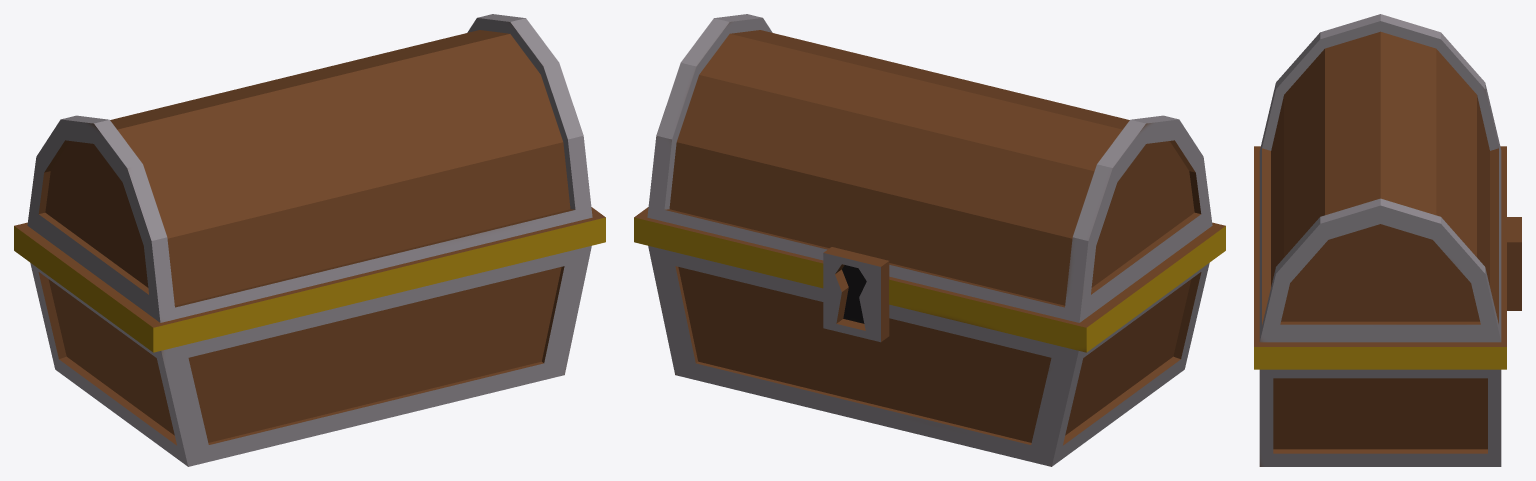
File: chest.glb
The picture shows the model from 3 angles, left to right: view 1: azimuth 30°, elevation 25°; view 2: azimuth 150°, elevation 25°; view 3: azimuth 270°, elevation 25°; orthographic projection. The views are drawn at different scales.
Parts seen in each view (by area): view 1: Top, Bottom; view 2: Top, Bottom; view 3: Top, Bottom.
Part boxes in pixels (x1,y1,x2,y2): Top: (14, 14, 605, 352); Bottom: (30, 245, 591, 466); Top: (634, 14, 1225, 352); Bottom: (648, 245, 1209, 466); Top: (1254, 14, 1506, 369); Bottom: (1259, 217, 1521, 466).
Bounding box in the file's own units: 1.57 × 1 × 0.8867.
Materials: 1 (1 with a texture image).
